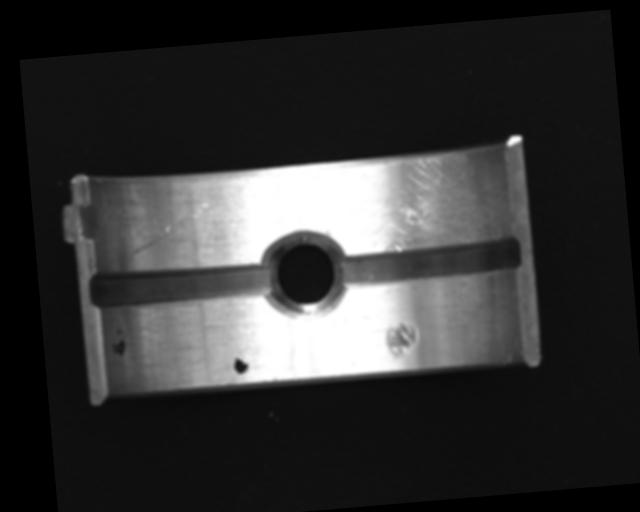blot: (109, 324, 127, 358), (233, 351, 249, 375)
bruise: (385, 320, 419, 363)
gap: (87, 258, 275, 315), (331, 234, 523, 289)
hole: (257, 225, 349, 322)
nick: (126, 201, 215, 256)
scratch: (333, 147, 503, 256)
